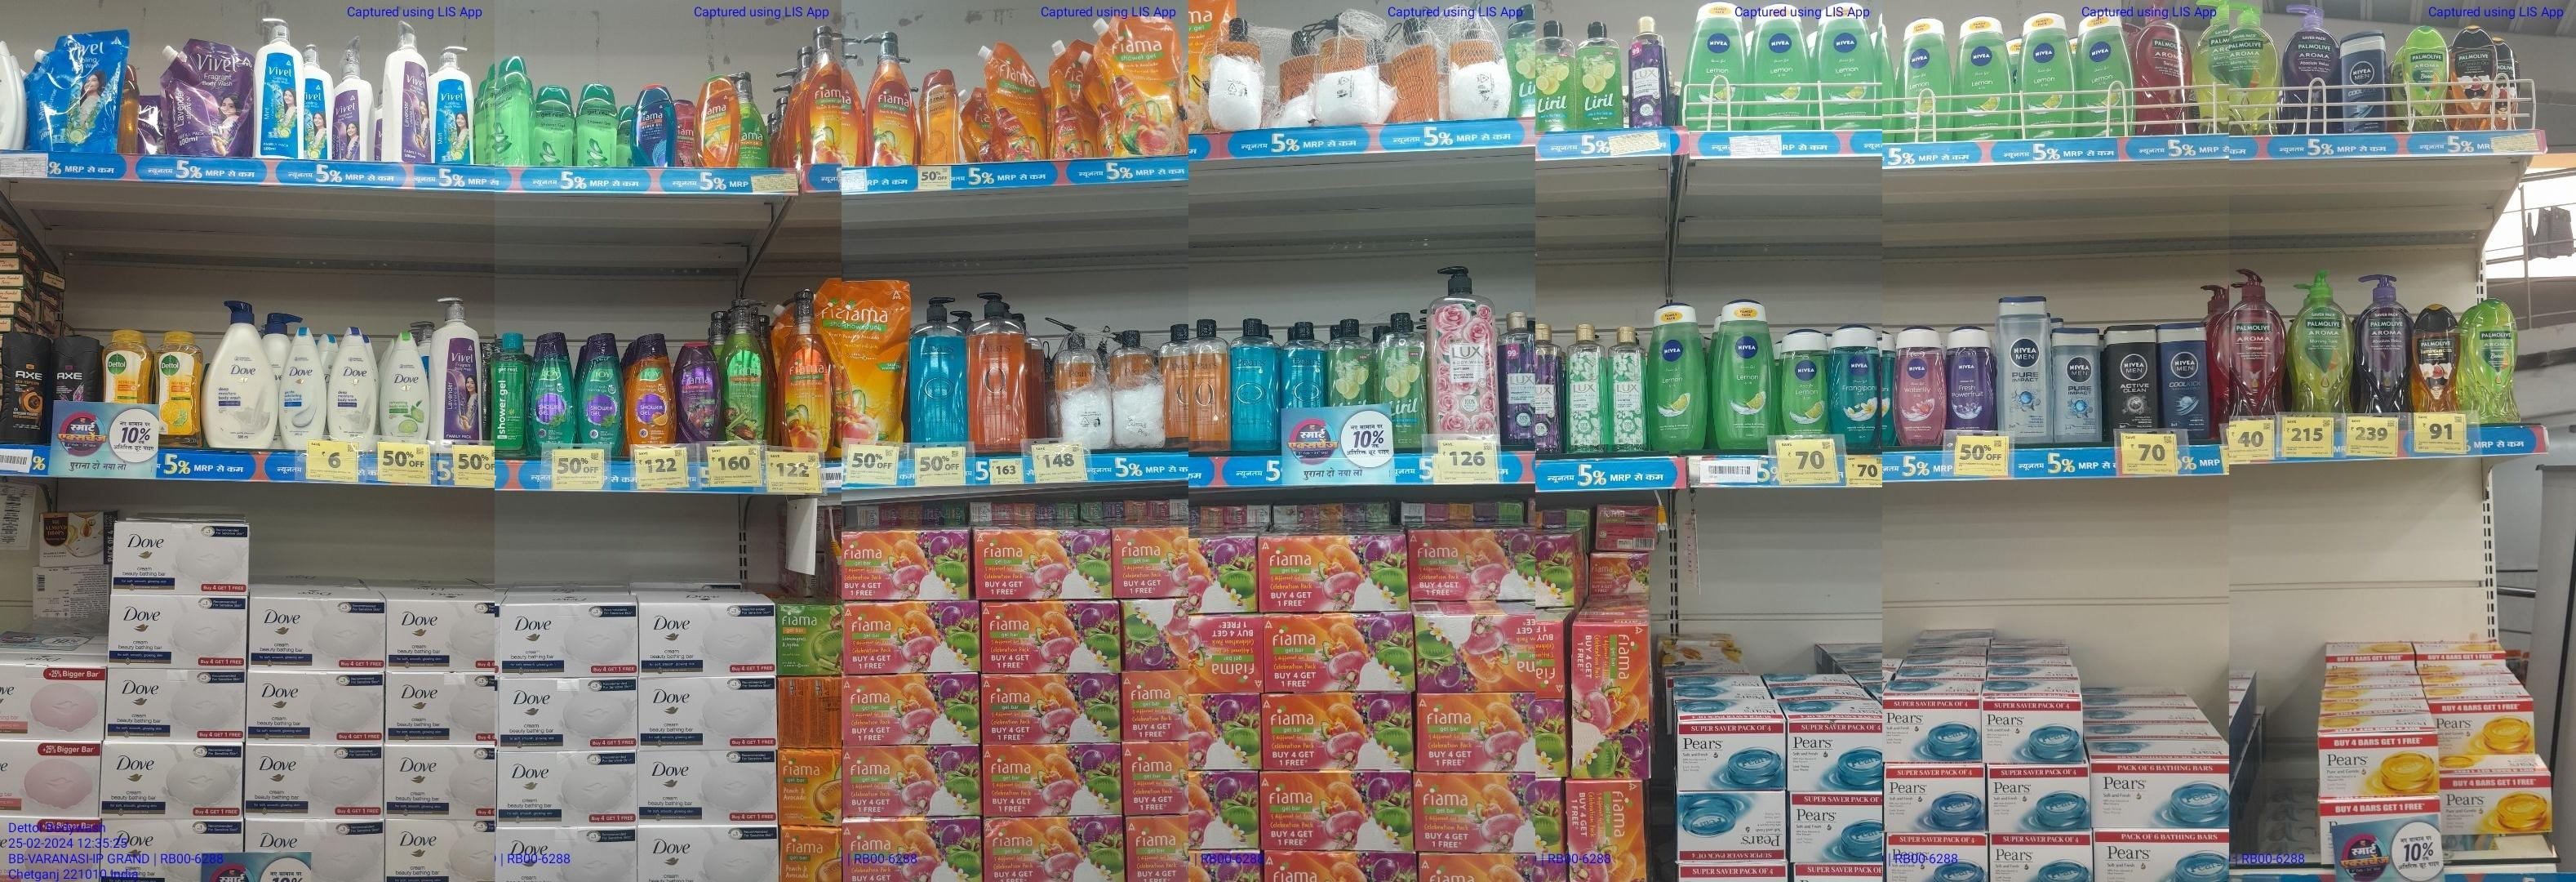Dettol_Bodywash_Refresh: (156, 333, 200, 447), (105, 330, 149, 442)
Dove_Deep_Moisture_Body_Wash_250ML: (327, 328, 375, 443)
Dove_Gentle_Exfoliating_Body_Wash_250ML: (279, 327, 325, 450)
Dove_Refreshing_Body_Wash_250ML: (381, 332, 429, 442)
Get_Real_Shower_Gel_Moisturising_Glycerin_300ML: (922, 69, 959, 163)
Joy_Shower_Gel_Mandarin_and_Lemongrass_250ML: (629, 333, 677, 445)
Joy_Shower_Gel_Mint_and_Eucalyptus_250ML: (577, 333, 626, 457), (532, 333, 575, 453)
Liril_Lime_and_Tea_Tree_Oil_Body_Wash_250ML: (1380, 312, 1429, 450), (1579, 21, 1622, 128), (1536, 18, 1575, 131), (1329, 319, 1378, 406)
Lux_Black_Orchid_Scent_and_Juniper_Oil_Body_Wash_245ML: (1628, 15, 1668, 125)
Lux_Body_Wash_Skin_Detox_Freesia_Scent_and_Alove_Vera_245ML: (1564, 324, 1603, 453), (1610, 327, 1643, 448)
Nivea_Shower_Gel_Frangipani_and_Oil_250ML: (1830, 324, 1879, 450)
Nivea_Shower_Gel_Fresh_Powerfruit_250ML: (1948, 327, 1998, 430)
Nivea_Shower_Gel_Lemon_and_Oil_250ML: (1717, 299, 1773, 450), (1648, 304, 1702, 448), (1751, 3, 1812, 131), (1820, 2, 1881, 128), (1684, 0, 1743, 126), (2078, 11, 2136, 133), (2021, 11, 2075, 136), (1955, 16, 2009, 140), (1902, 18, 1952, 140), (1781, 330, 1829, 435)
Nivea_Shower_Gel_Waterlily_and_Oil_250ML: (1894, 327, 1940, 448)
Palmolive_Aroma_Morning_Tonic_Shower_Gel_250ML: (2471, 301, 2520, 427), (2403, 26, 2448, 131)
Palmolive_Luminous_Oils_With_White_Orchid_Shower_Gel_250ML: (2412, 305, 2461, 411), (2453, 28, 2495, 130)
Pears_Pure_Glycerin_and_Mint_Extracts_Body_Wash_250ML: (1230, 317, 1276, 450), (1283, 322, 1324, 407)
